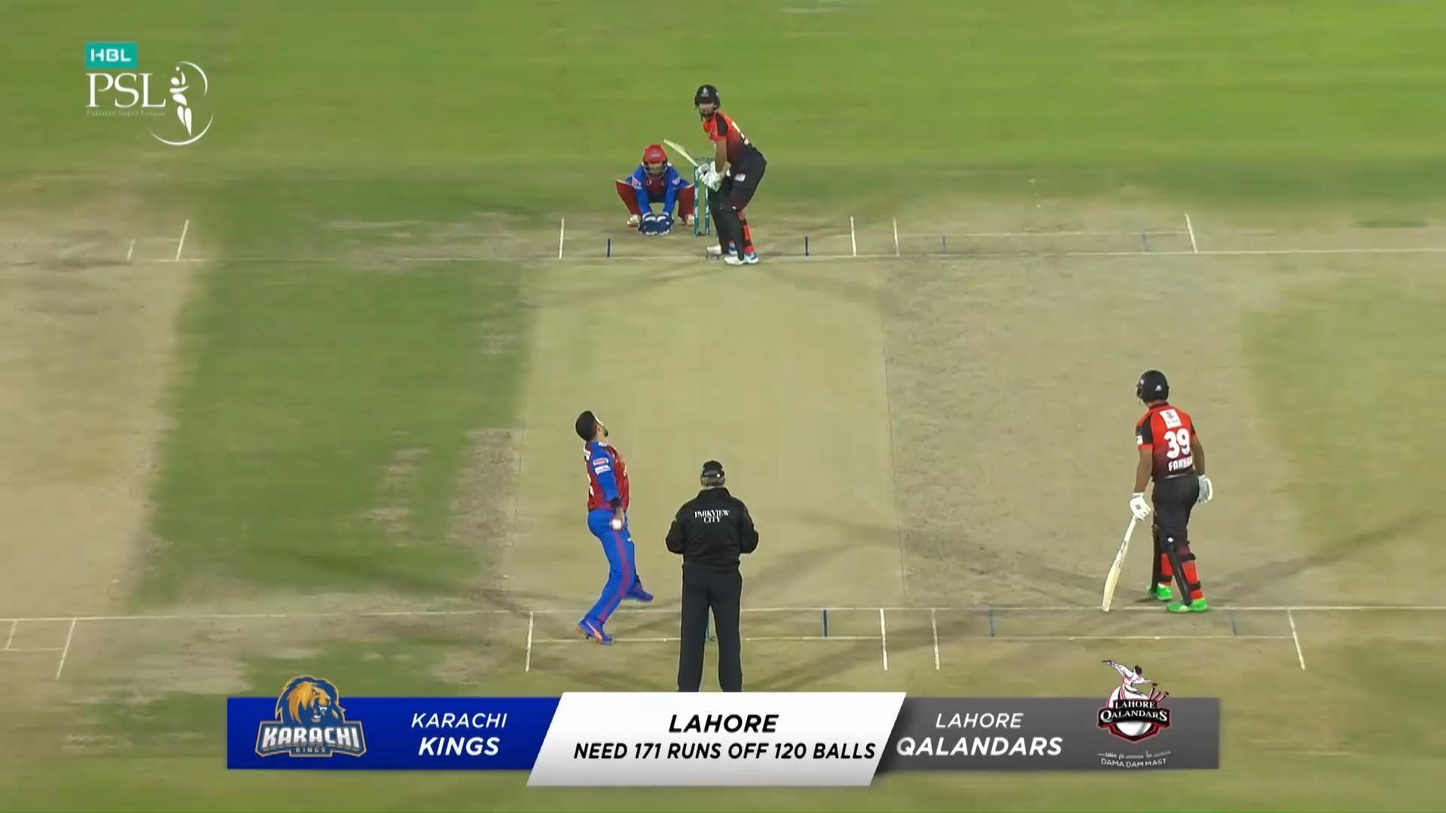BM 1: (664, 83, 767, 266)
BO: (574, 409, 658, 647)
